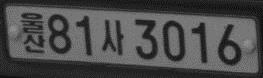0: (162, 19, 186, 61)
1: (190, 20, 209, 64), (75, 14, 93, 57)
3: (133, 17, 158, 61)
6: (216, 22, 242, 66)
8: (46, 12, 72, 54)
사: (100, 17, 124, 55)
울산_V: (19, 11, 46, 54)
